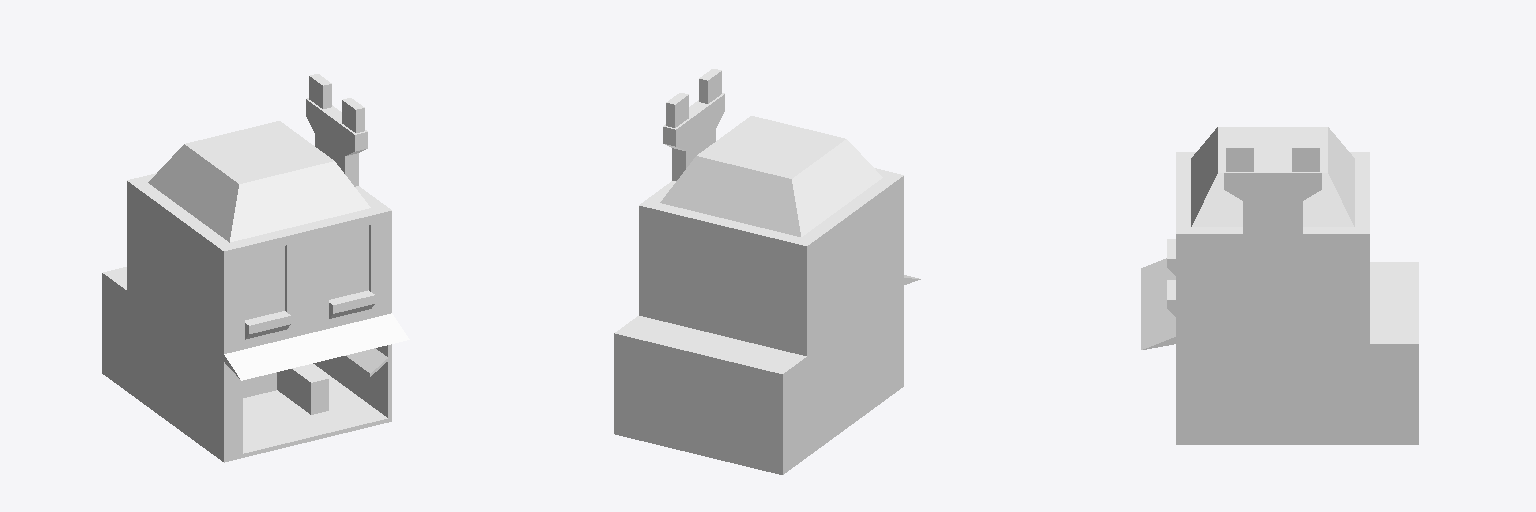
Rendered from bakery.obj.
3 renders of one model, left to right at view 1: azimuth 30°, elevation 25°; view 2: azimuth 150°, elevation 25°; view 3: azimuth 270°, elevation 25°, orthographic.
Parts seen in each view (by area): view 1: Cube4; view 2: Cube4; view 3: Cube4.
Part boxes in pixels (x1,y1,x2,y2): Cube4: (102, 74, 409, 462); Cube4: (614, 69, 920, 474); Cube4: (1141, 127, 1418, 444).
Bounding box in the file's own units: 274 × 460 × 392.